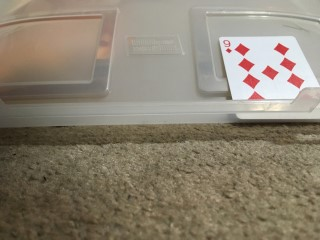NineOfDiamonds: (219, 36, 320, 119)
